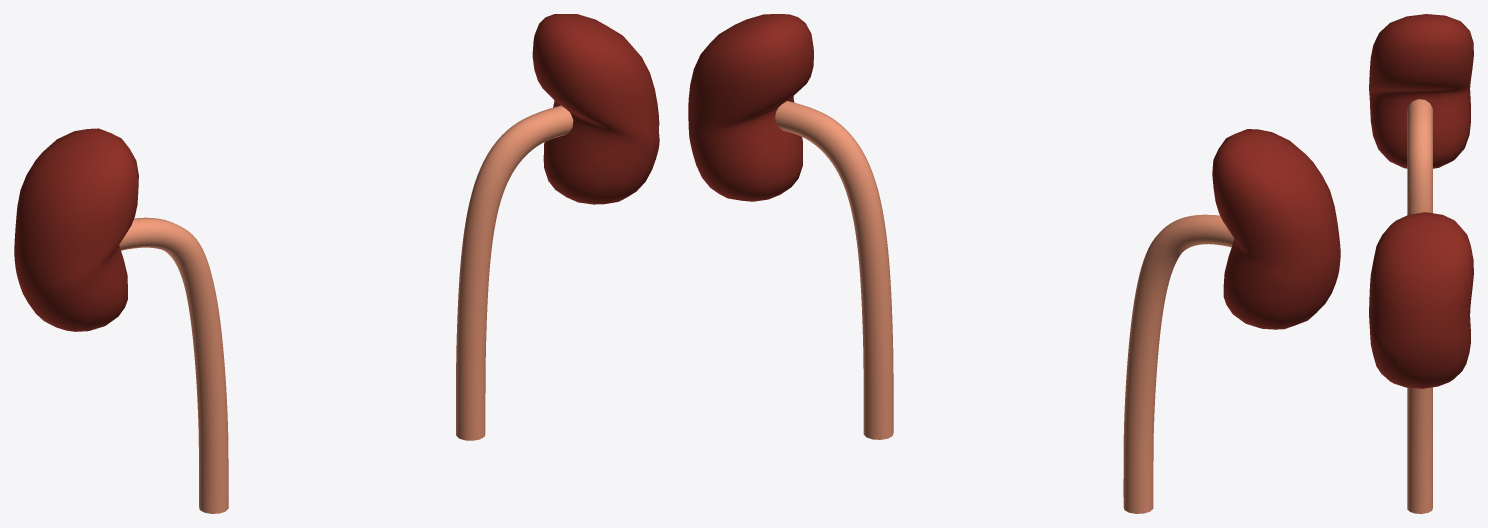
File: Riñones.fbx
3 views of the same model, side by side, from view 1: azimuth 30°, elevation 25°; view 2: azimuth 150°, elevation 25°; view 3: azimuth 270°, elevation 25° (orthographic). The views are drawn at different scales.
Parts seen in each view (by area): view 1: Cube.009; view 2: Cube.009; view 3: Cube.009.
Boxes of the visible parts, x1,y1,x2,y2 form: Cube.009: [14, 14, 659, 513]; Cube.009: [688, 14, 1340, 513]; Cube.009: [1369, 14, 1473, 513].
Bounding box in the file's own units: 57.78 × 34.93 × 9.66.
